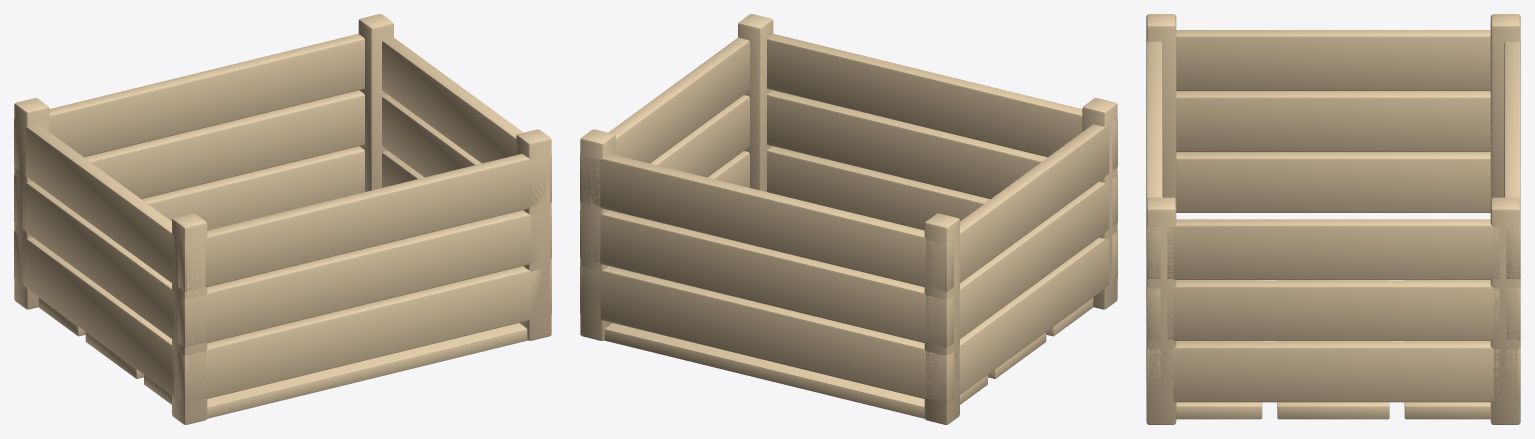
The model's file is crate.glb.
3 renders of one model, left to right at view 1: azimuth 30°, elevation 25°; view 2: azimuth 150°, elevation 25°; view 3: azimuth 270°, elevation 25°, orthographic. The views are drawn at different scales.
Parts seen in each view (by area): view 1: crate; view 2: crate; view 3: crate.
Part boxes in pixels (x1=…): crate: x1=14, y1=14, x2=551, y2=424; crate: x1=580, y1=14, x2=1117, y2=424; crate: x1=1146, y1=14, x2=1520, y2=424.
Size of the model in its own units: 0.62 by 0.32 by 0.5.
